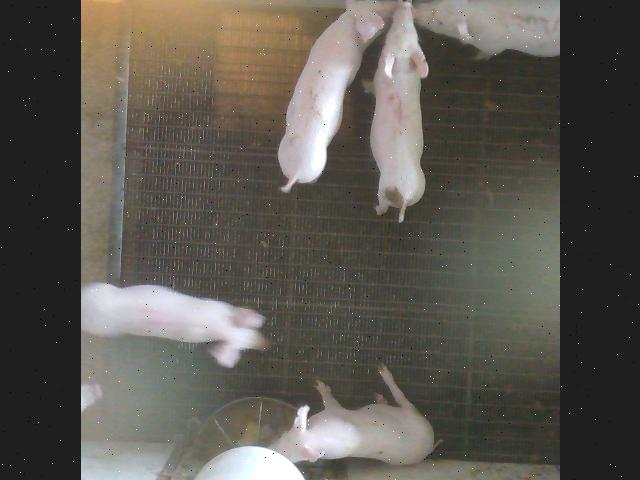pig-3: (412, 0, 560, 58)
pig-4: (81, 282, 266, 368)
pig-5: (369, 2, 428, 222)
